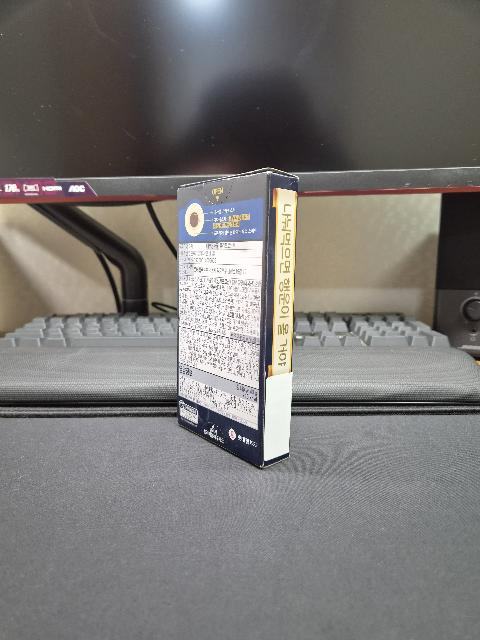pepero: (177, 167, 299, 468)
